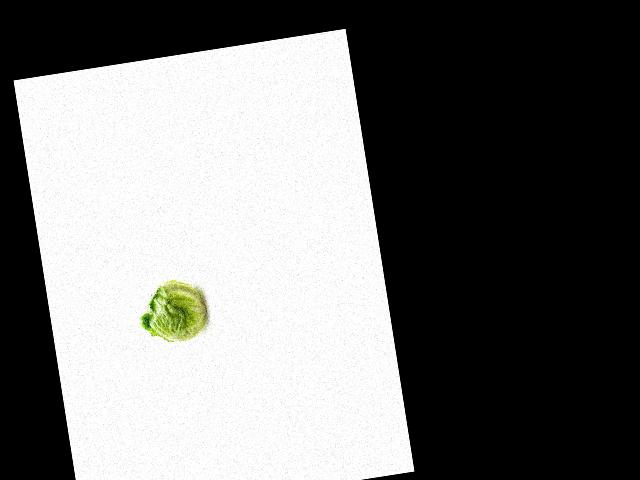lettuce: (133, 270, 213, 349)
